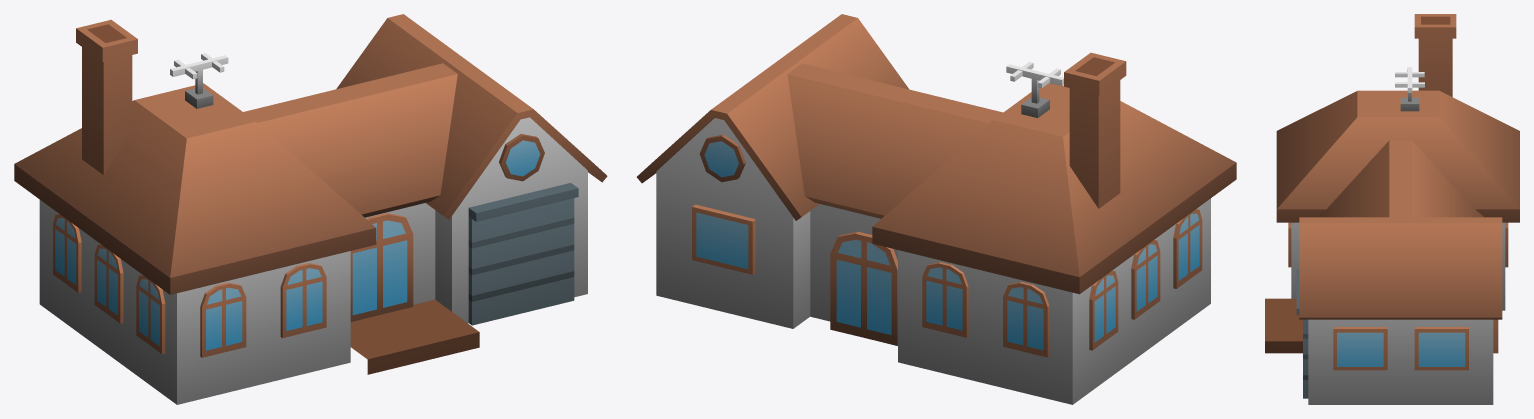
The model's file is small house with garage.fbx.
3 views of the same model, side by side, from view 1: azimuth 30°, elevation 25°; view 2: azimuth 150°, elevation 25°; view 3: azimuth 270°, elevation 25° (orthographic). The views are drawn at different scales.
Visible parts, largest first — view 1: small_house_with_garage; view 2: small_house_with_garage; view 3: small_house_with_garage.
Part boxes in pixels (<box>): small_house_with_garage: <box>14,14,607,404</box>; small_house_with_garage: <box>637,14,1236,404</box>; small_house_with_garage: <box>1265,14,1519,404</box>.
Size of the model in its own units: 1055 by 676 by 661.
1 material, 1 textured.
